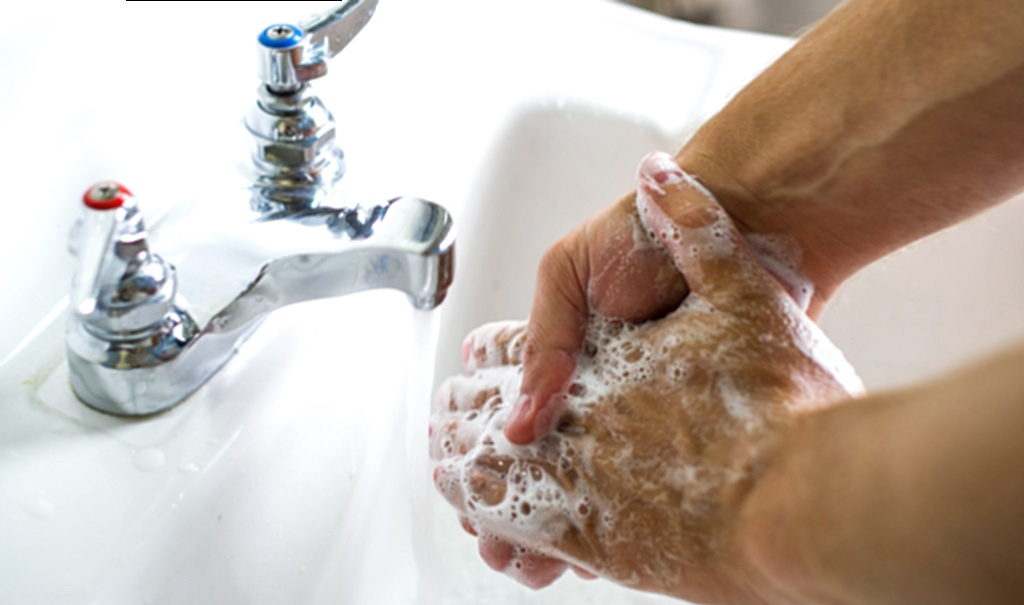washing hand: (207, 23, 937, 604)
